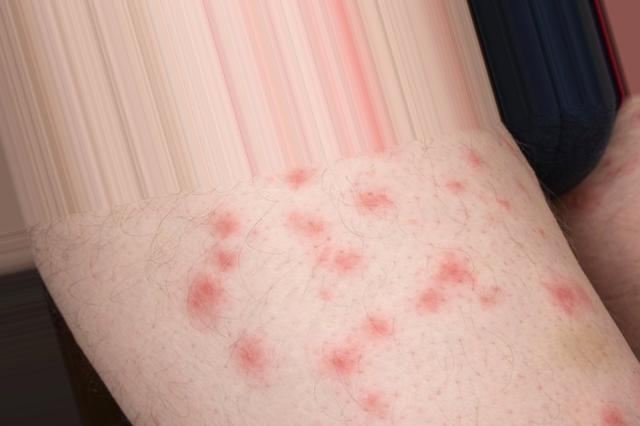Fleas: (545, 269, 593, 321), (287, 204, 337, 251), (184, 272, 224, 325), (230, 332, 267, 381), (412, 282, 449, 319), (355, 187, 395, 220), (435, 255, 474, 285), (361, 311, 395, 344), (327, 248, 362, 278), (281, 163, 314, 192), (209, 210, 239, 239), (454, 144, 485, 171), (329, 351, 361, 373), (602, 406, 639, 425), (357, 391, 386, 412), (213, 249, 237, 271), (478, 285, 502, 307), (490, 194, 514, 213), (445, 175, 466, 196)
